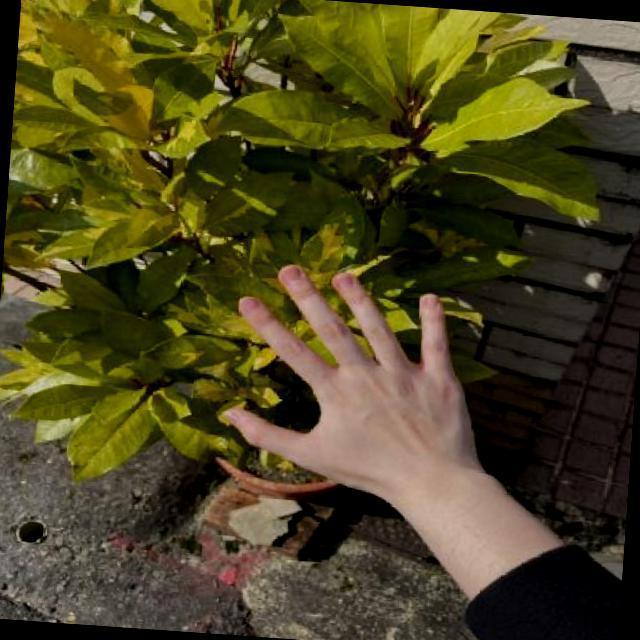hand: (215, 243, 482, 496)
